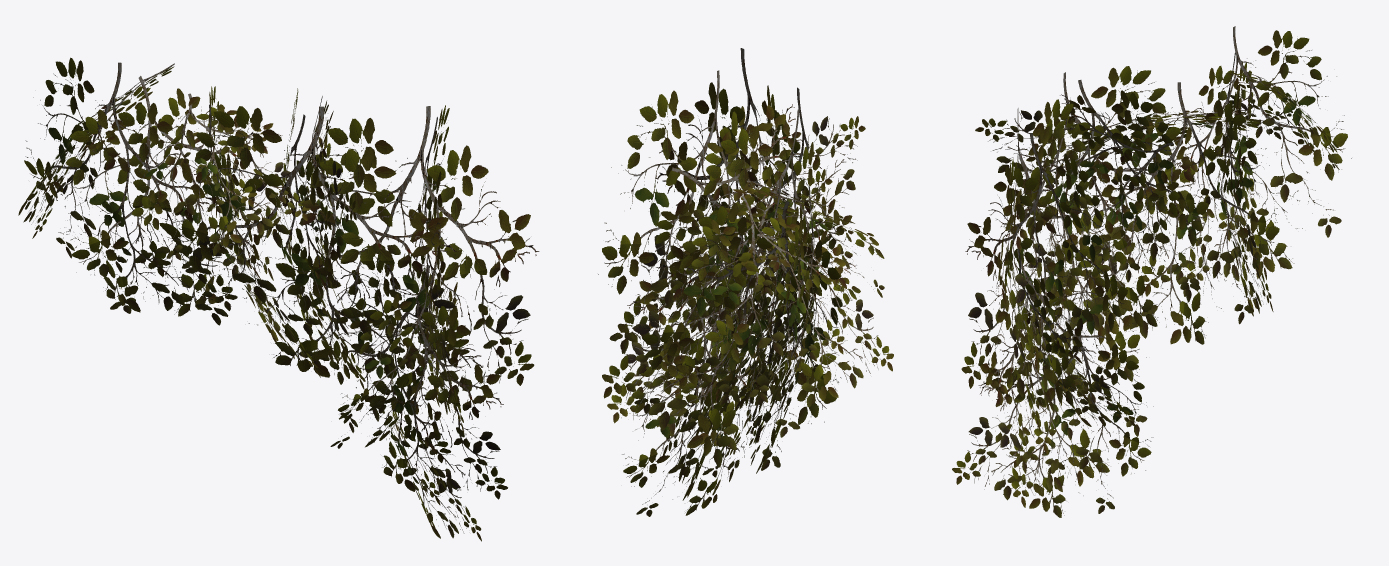
The model's file is rock_plants_001.dae.
3 views of the same model, side by side, from view 1: azimuth 30°, elevation 25°; view 2: azimuth 150°, elevation 25°; view 3: azimuth 270°, elevation 25° (orthographic). The views are drawn at different scales.
Visible parts, largest first — view 1: Mesh_Object; view 2: Mesh_Object; view 3: Mesh_Object.
Boxes of the visible parts, x1=… form: Mesh_Object: x1=18, y1=57, x2=539, y2=541; Mesh_Object: x1=598, y1=48, x2=893, y2=516; Mesh_Object: x1=952, y1=26, x2=1351, y2=517.
Size of the model in its own units: 4.17 by 4.88 by 4.37.
